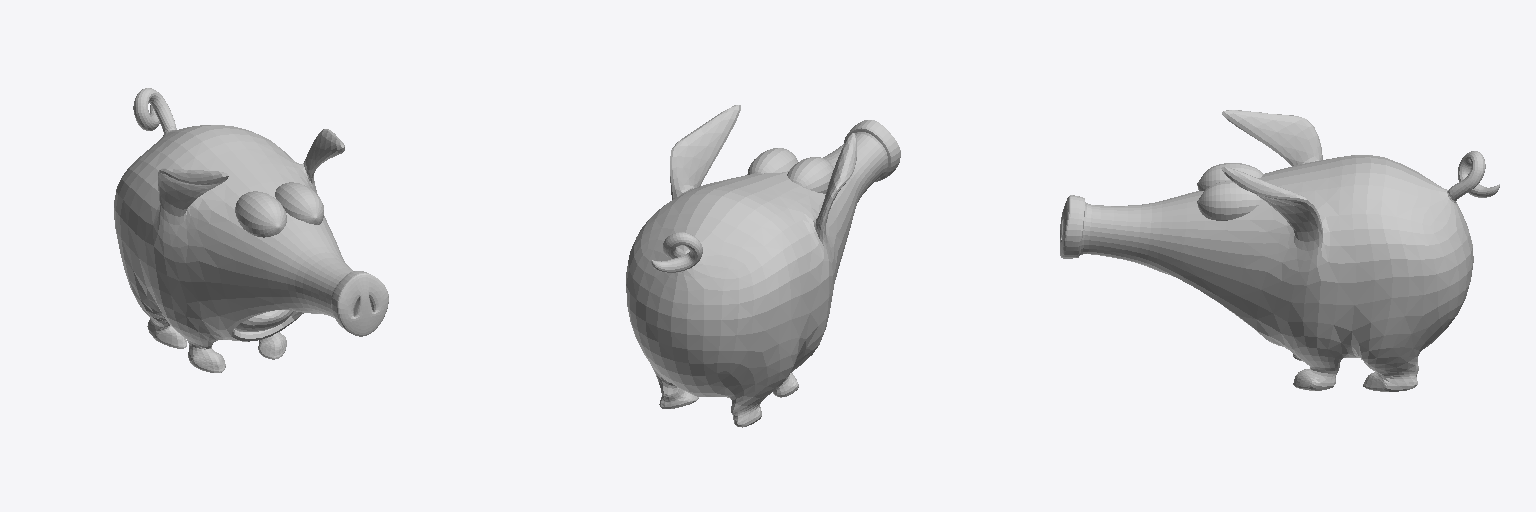
File: cube-simple.obj
The picture shows the model from 3 angles: view 1: azimuth 30°, elevation 25°; view 2: azimuth 150°, elevation 25°; view 3: azimuth 270°, elevation 25°; orthographic projection.
Visible parts, largest first — view 1: skin, eyes, tongue; view 2: skin, eyes; view 3: skin, eyes.
Part boxes in pixels (left/top/right/bottom): skin: left=114, top=88, right=388, bottom=372; eyes: left=235, top=182, right=323, bottom=237; tongue: left=234, top=310, right=293, bottom=331; skin: left=626, top=105, right=900, bottom=427; eyes: left=747, top=148, right=833, bottom=193; skin: left=1060, top=110, right=1499, bottom=391; eyes: left=1198, top=163, right=1263, bottom=220.
Bounding box in the file's own units: 0.683 × 0.9181 × 1.57.